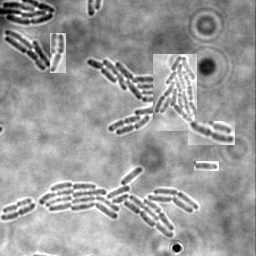Dividing: (188, 121, 235, 145), (1, 204, 37, 222), (50, 33, 66, 73), (3, 199, 33, 215), (194, 161, 219, 171)
Microcolony: (40, 167, 199, 238), (87, 59, 181, 136), (153, 54, 197, 131), (5, 30, 52, 72), (1, 1, 56, 26)
